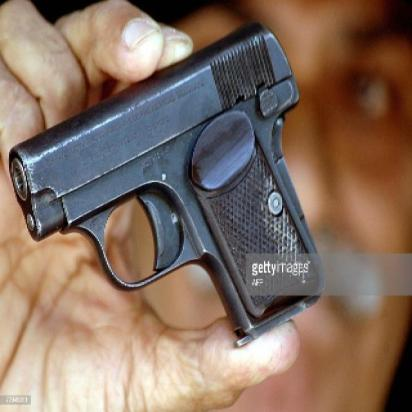Gun: (8, 22, 327, 342)
